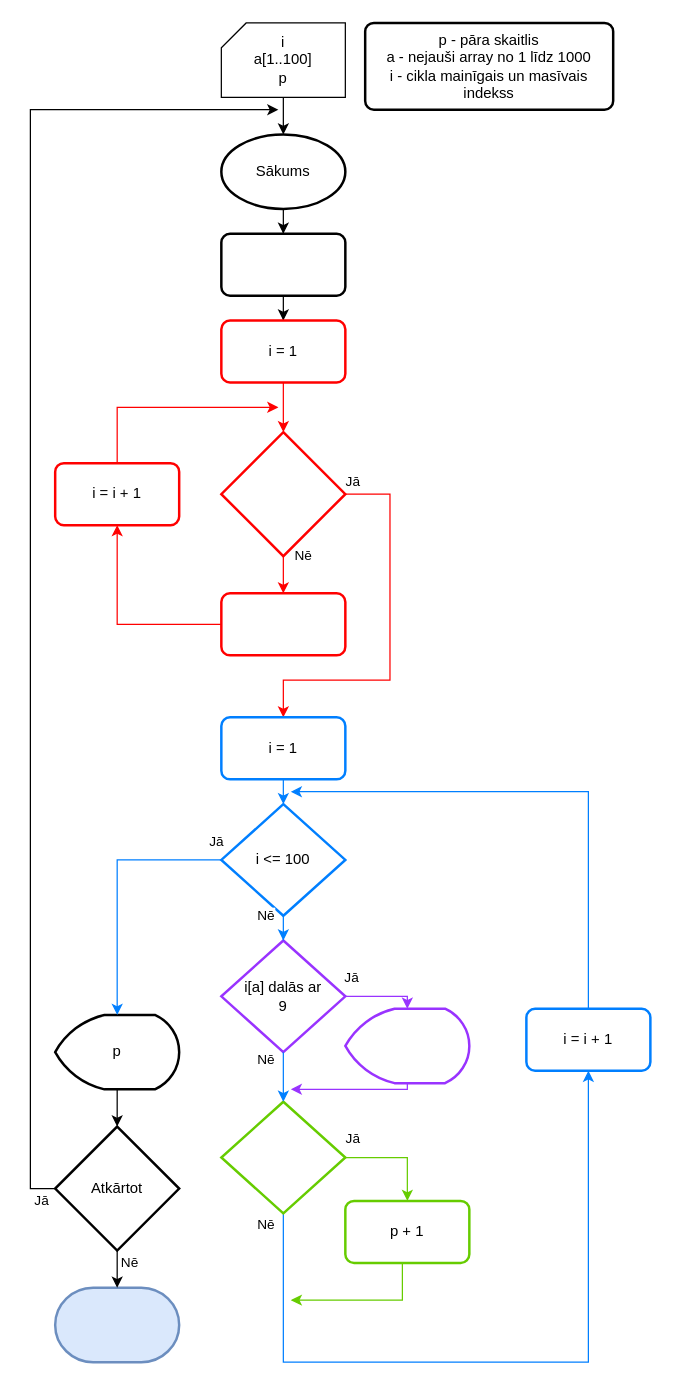
This 673x1394 diagram has some shape labels left out. Each missing label, with the centre of its shape:
"a <= 100" goes at [282,493].
"a = skailis 1 līdz 1000" goes at [282,623].
"Beigas" goes at [116,1324].
"i[a] ir pāra skaitlis" goes at [282,1157].
"p = 0" goes at [282,264].
"parāda uz ekrāna i[a]" goes at [406,1045].
